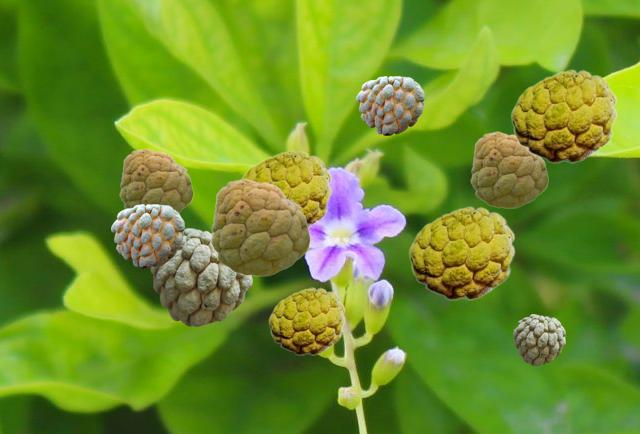atis: (408, 206, 514, 299), (510, 69, 616, 162), (150, 228, 251, 325), (210, 178, 309, 275), (241, 150, 331, 228), (470, 131, 547, 207), (268, 287, 344, 354), (119, 148, 192, 212), (111, 204, 183, 267), (356, 76, 423, 134), (513, 314, 564, 364)
